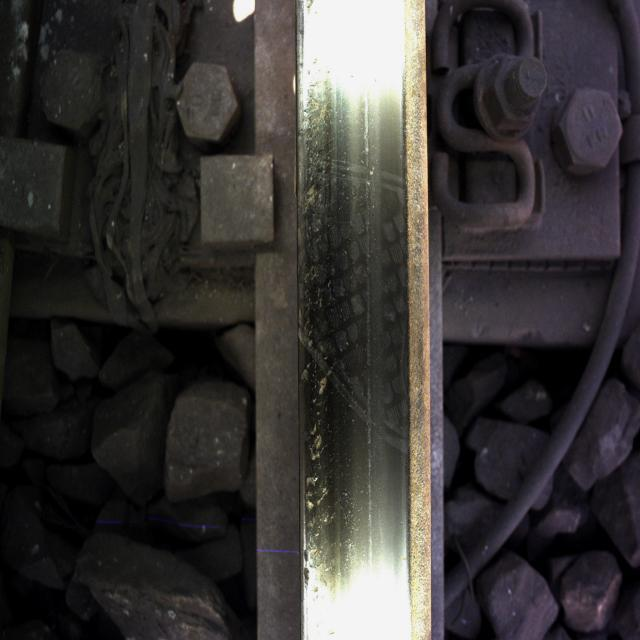scar: (299, 44, 370, 581)
